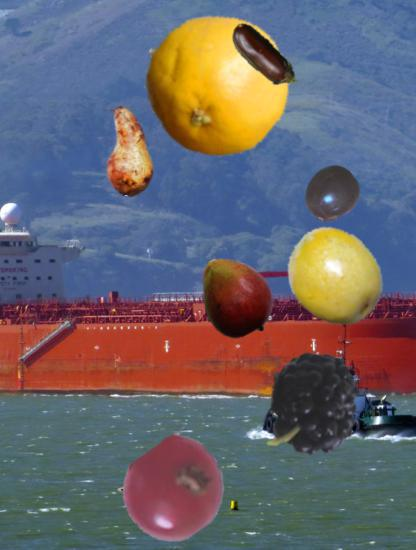Eggplant: (222, 14, 307, 99)
Grapefruit: (143, 10, 291, 158)
Mango: (193, 253, 279, 339)
Maracuja: (284, 225, 388, 329)
Mulberry: (262, 351, 380, 469)
Passion: (302, 165, 361, 224)
Pear: (82, 106, 173, 197)
Redcurrant: (123, 439, 227, 543)
